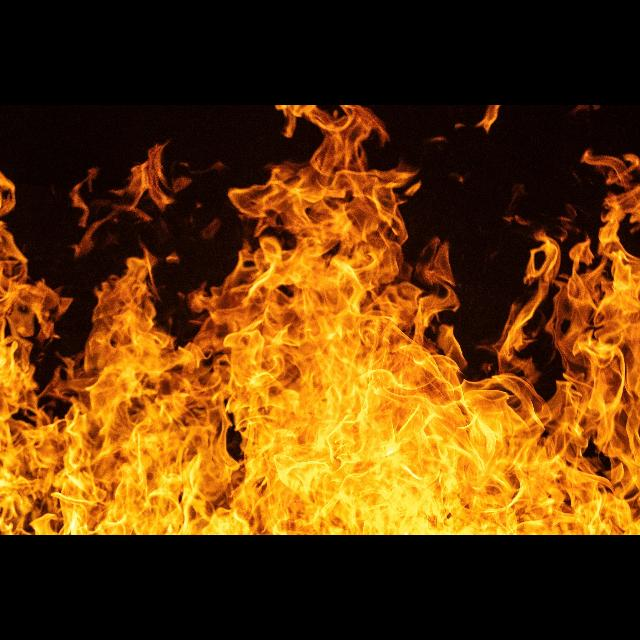fire: (0, 105, 640, 536)
